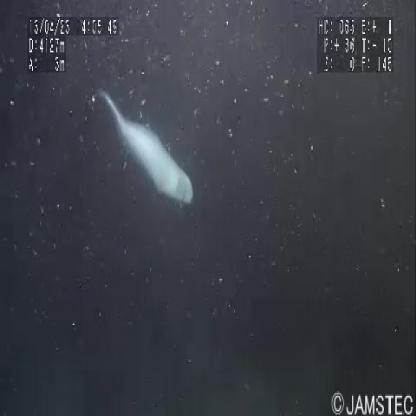Bio: (94, 86, 195, 210)
